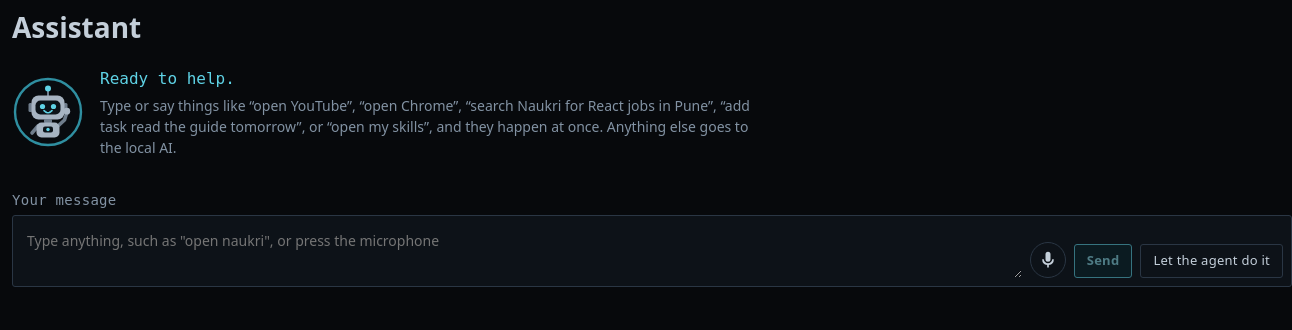
Test: the microphone in the chat bar › sends a spoken question to the assistant and applies its suggestions
Click the button named "Speak a message or command". click: [1048, 260]
box: [1030,242,1066,278]
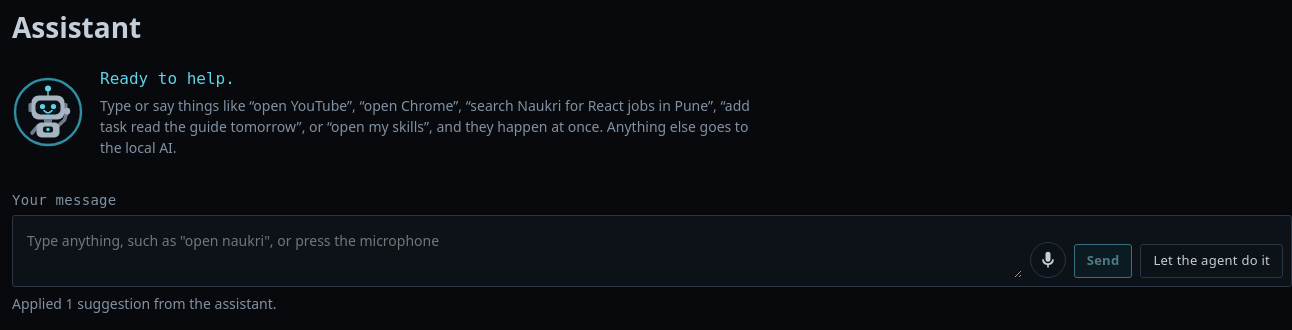
expect the text "Applied 1 suggestion from the assistant." is shown: met, box [12,294,276,312]
